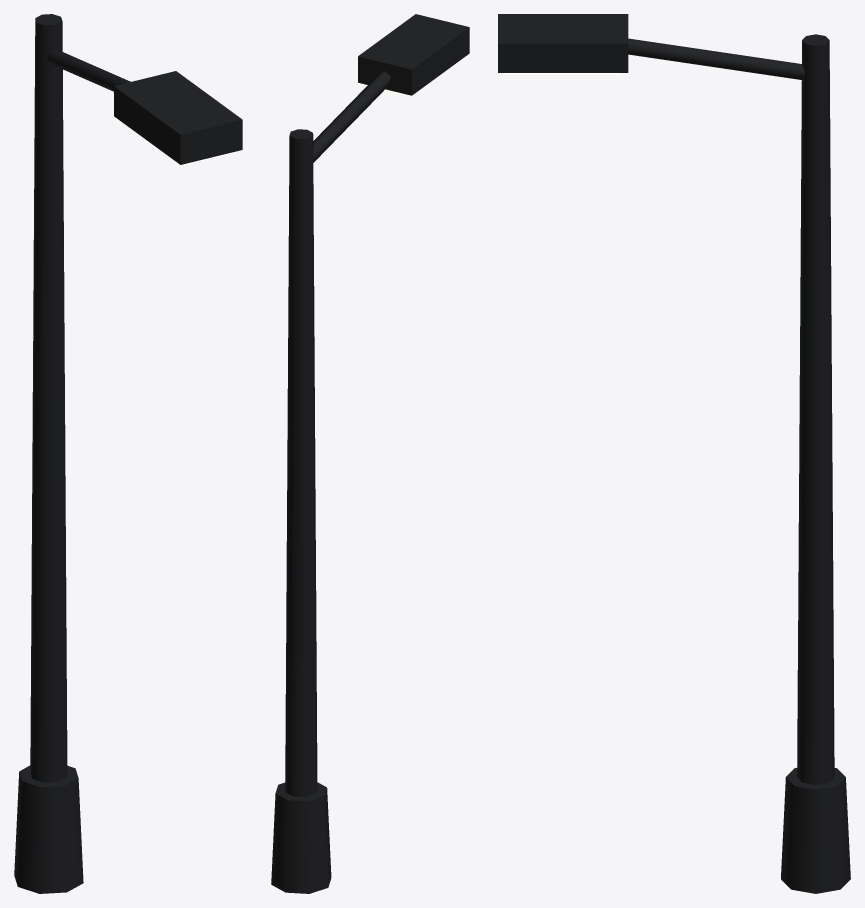
The model's file is street_lamp.glb.
3 views of the same model, side by side, from view 1: azimuth 30°, elevation 25°; view 2: azimuth 150°, elevation 25°; view 3: azimuth 270°, elevation 25° (orthographic). The views are drawn at different scales.
Parts seen in each view (by area): view 1: street_lamp; view 2: street_lamp; view 3: street_lamp.
Part boxes in pixels (x1,y1,x2,y2): street_lamp: (14,14,242,893); street_lamp: (271,14,469,893); street_lamp: (498,14,850,893).
Size of the model in its own units: 0.28 by 3.75 by 1.41.
Materials: 1 (1 with a texture image).
